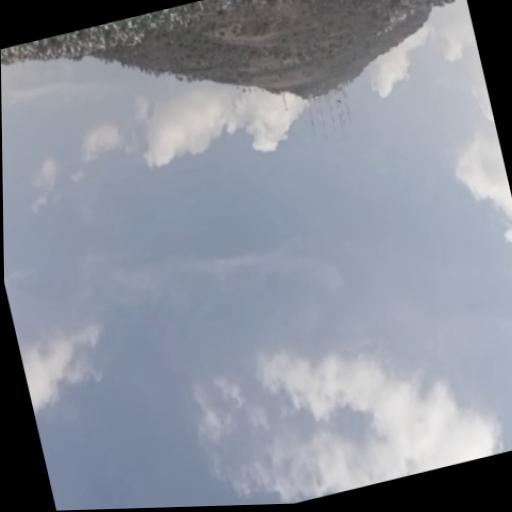drones: (334, 95, 343, 106)
